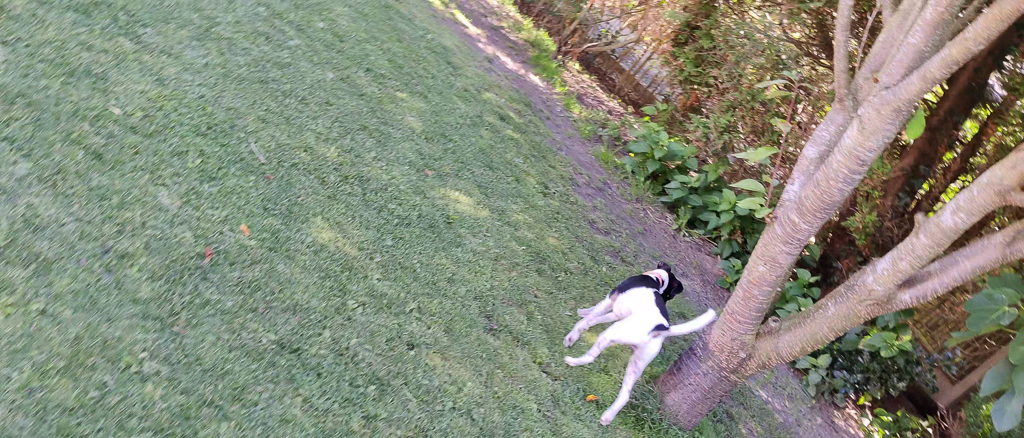Dog: (553, 259, 727, 432)
